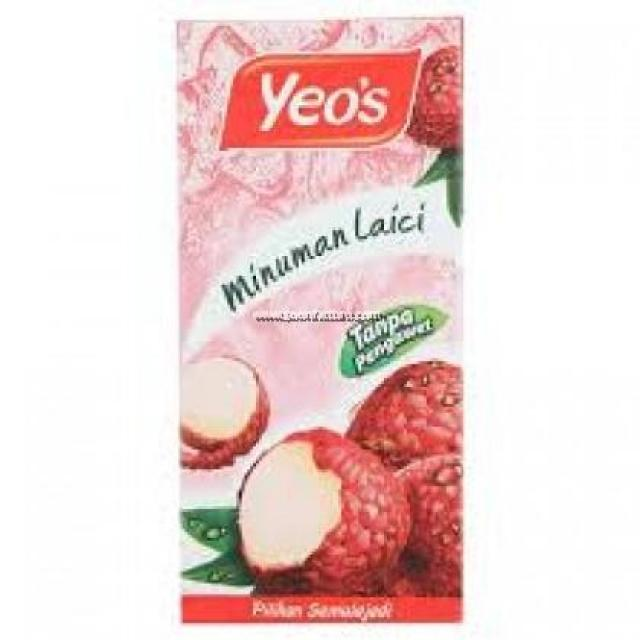drink carton: (174, 15, 464, 620)
